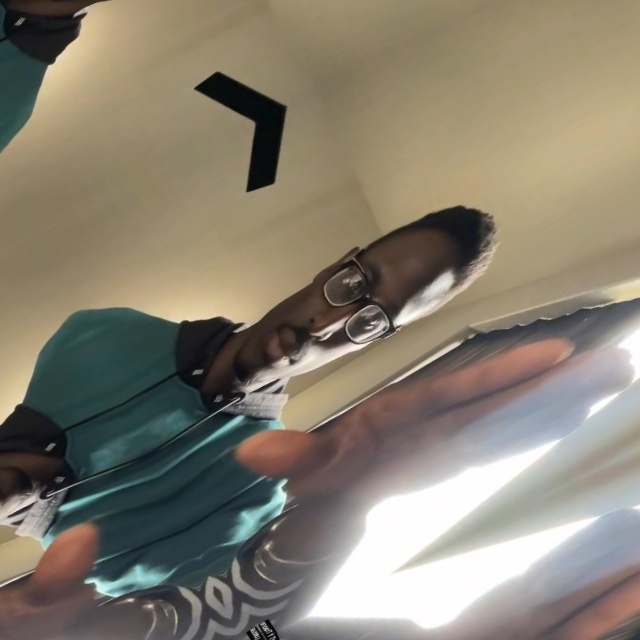Paper: (0, 492, 168, 640)
